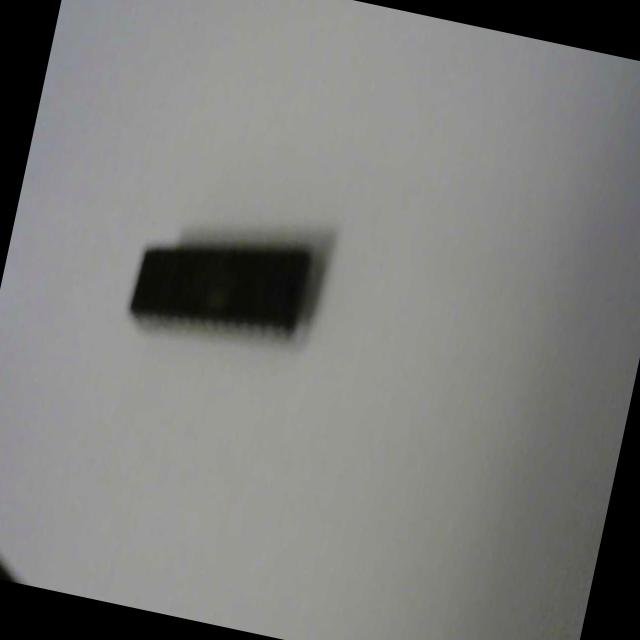atmega: (121, 202, 323, 363)
